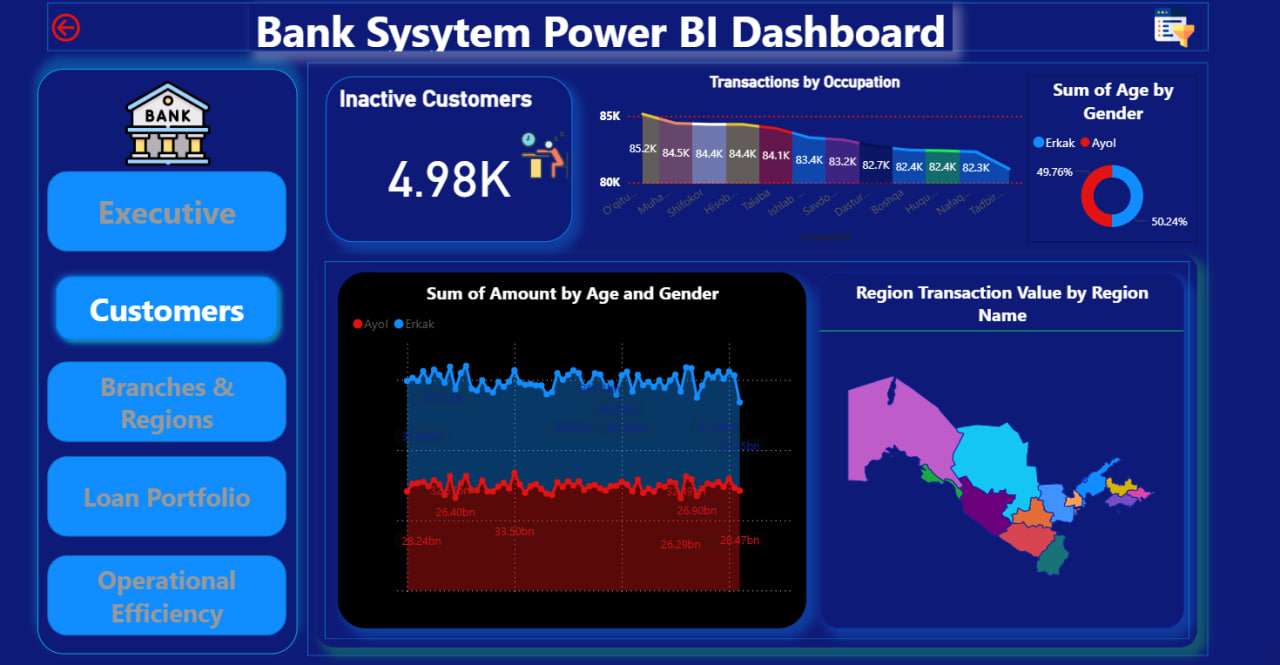

What the dashboard file says about the page in this screenshot:
{"tool":"powerbi","page":{"name":"Customer Analysis","canvas":[1280,720],"ordinal":1},"visuals":[{"type":"shape","box":[19.9,8.7,1244,52.2],"z":0},{"type":"shape","box":[298.8,72.5,965,636.2],"z":1000},{"type":"shape","box":[308.8,277.5,942.5,421.2],"z":2000},{"type":"image","box":[1173.8,8.8,106.2,52.5],"z":3000},{"type":"shape","box":[8.8,78.8,278.8,627.5],"z":4000},{"type":"textbox","title":"Bank Sysytem Power BI Dashboard ","box":[235,7.5,753.8,53.8],"z":5000},{"type":"shape","box":[20,188.8,256.2,86.2],"z":6000},{"type":"shape","box":[20,292.5,256.2,86.2],"z":7000},{"type":"shape","box":[20,392.5,256.2,86.2],"z":8000},{"type":"shape","box":[20,493.8,256.2,86.2],"z":9000},{"type":"shape","box":[20,600,256.2,86.2],"z":10000},{"type":"image","box":[87.5,87.5,123.8,101.2],"z":11000},{"type":"actionButton","box":[20,15,100,40],"z":12000},{"type":"shapeMap","title":"Region Transaction Value by Region Name","fields":{"Value":["page_2.Region Transaction Value"],"Series":["Dim_Region.Region_ID"],"Category":["Dim_Region.Region_Name_Eng"]},"box":[846.2,297.5,391.2,381.2],"z":13000},{"type":"stackedAreaChart","fields":{"Category":["Dim_Customers.Age"],"Y":["Sum(Fact_Transactions.Amount)"],"Series":["Dim_Customers.Gender"]},"box":[331.2,297.5,501.2,381.2],"z":14000},{"type":"stackedAreaChart","title":"Transactions by Occupation","fields":{"Category":["Dim_Customers.Occupation"],"Y":["CountNonNull(Fact_Transactions.Transaction_ID)"]},"box":[593.8,82.5,476.2,187.5],"z":15000},{"type":"card","title":"Inactive Customers","fields":{"Values":["page_2.Inactive Customers Count"]},"box":[318.8,87.5,263.8,177.5],"z":16000},{"type":"donutChart","fields":{"Category":["Dim_Customers.Gender"],"Y":["Sum(Dim_Customers.Age)"]},"box":[1070,87.5,181.2,177.5],"z":17000},{"type":"image","box":[522.5,121.2,60,101.2],"z":18000}]}

Visuals, with their boxes on the page's 1280x720 design canvas (x1, y1, x2, y2). These are canvas units, not pixel positions in the 1280x665 screenshot, which may show the page scaled, cropped or inside an application window:
shape: left=20, top=9, right=1264, bottom=61
shape: left=299, top=72, right=1264, bottom=709
shape: left=309, top=278, right=1251, bottom=699
image: left=1174, top=9, right=1280, bottom=61
shape: left=9, top=79, right=288, bottom=706
"Bank Sysytem Power BI Dashboard " textbox: left=235, top=8, right=989, bottom=61
shape: left=20, top=189, right=276, bottom=275
shape: left=20, top=292, right=276, bottom=379
shape: left=20, top=392, right=276, bottom=479
shape: left=20, top=494, right=276, bottom=580
shape: left=20, top=600, right=276, bottom=686
image: left=88, top=88, right=211, bottom=189
actionButton: left=20, top=15, right=120, bottom=55
"Region Transaction Value by Region Name" shapeMap: left=846, top=298, right=1237, bottom=679
stackedAreaChart - Dim_Customers.Age x Sum(Fact_Transactions.Amount): left=331, top=298, right=832, bottom=679
"Transactions by Occupation" stackedAreaChart: left=594, top=82, right=1070, bottom=270
"Inactive Customers" card: left=319, top=88, right=583, bottom=265
donutChart - Dim_Customers.Gender x Sum(Dim_Customers.Age): left=1070, top=88, right=1251, bottom=265
image: left=522, top=121, right=582, bottom=222
